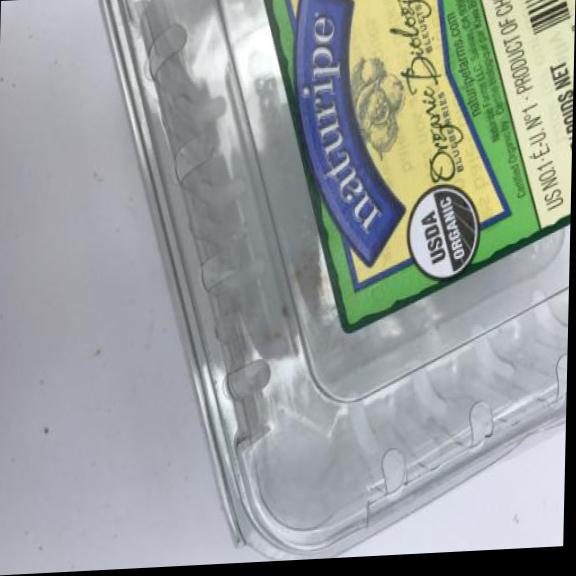Plastik: (82, 0, 576, 571)
